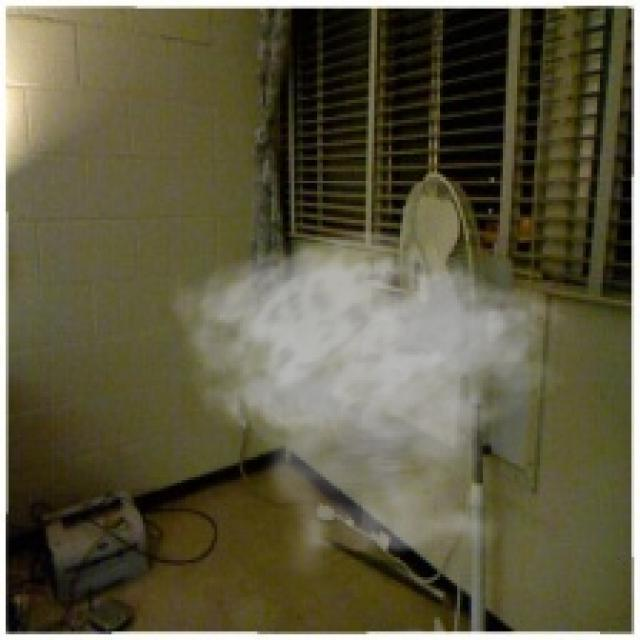Smoke: (168, 228, 574, 586)
